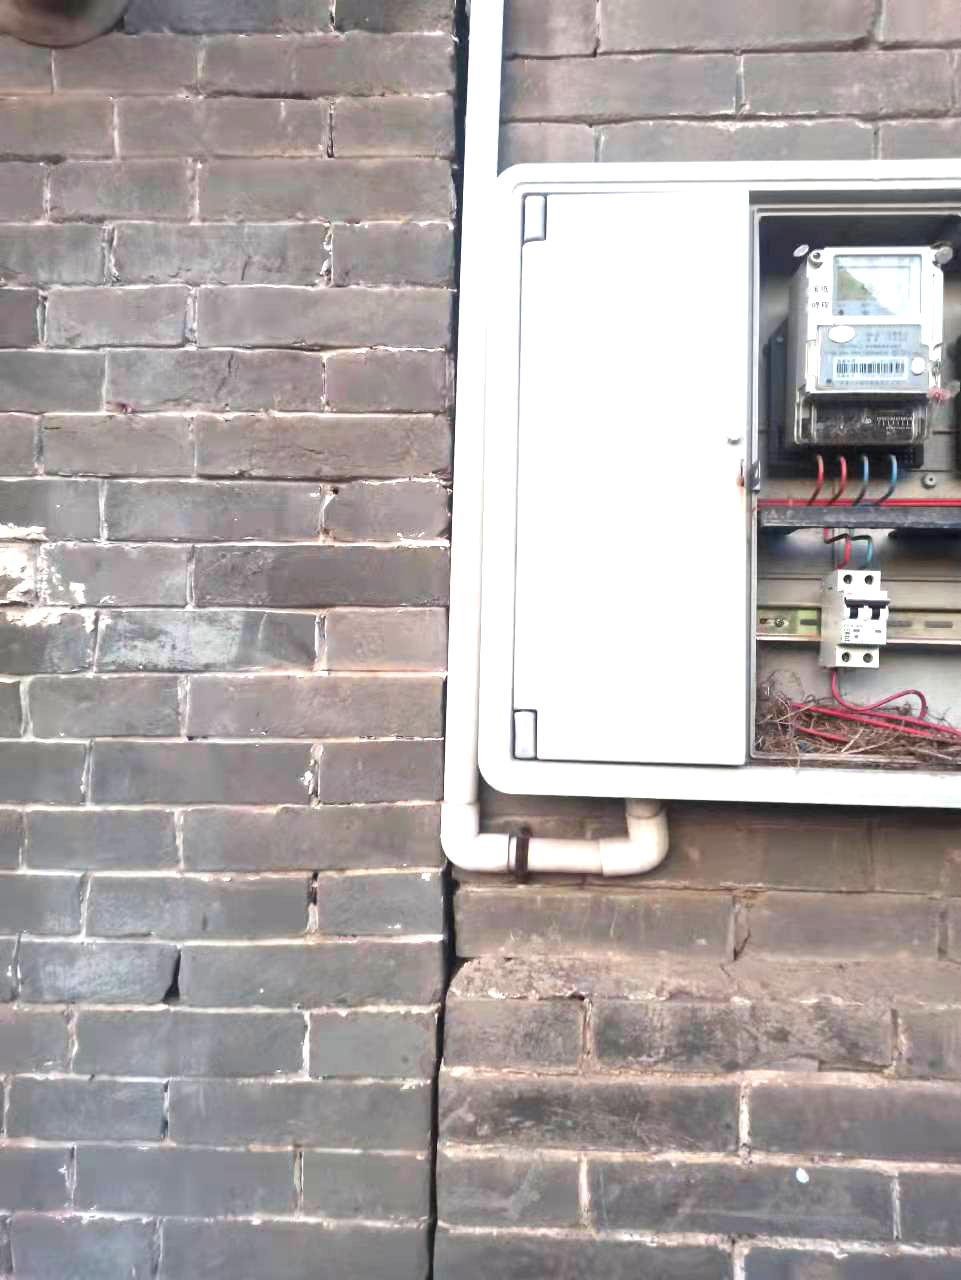digital: (807, 248, 939, 395)
